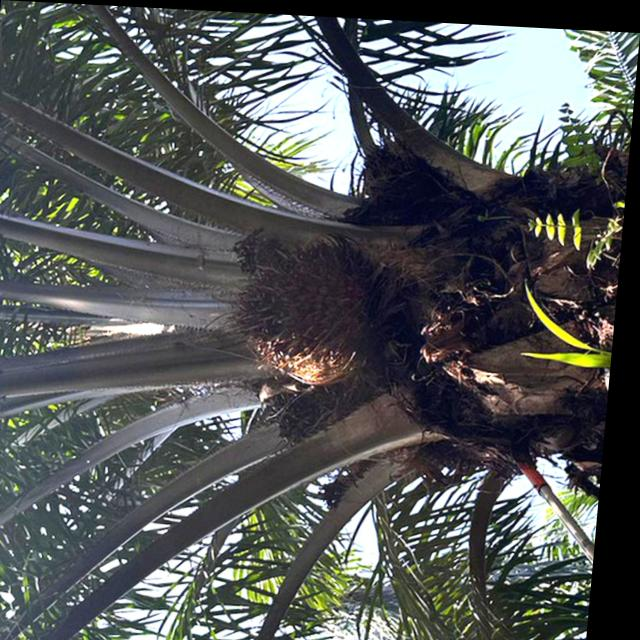ripe: (227, 225, 379, 383), (275, 379, 346, 446)
